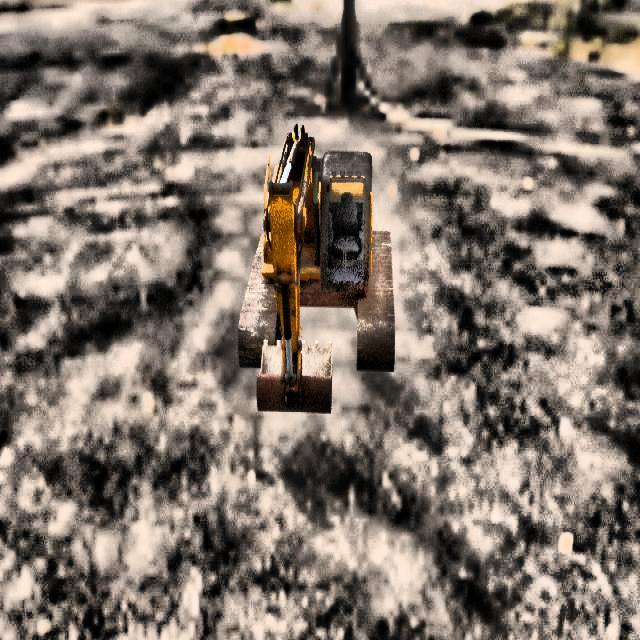excavator: (238, 122, 395, 414)
